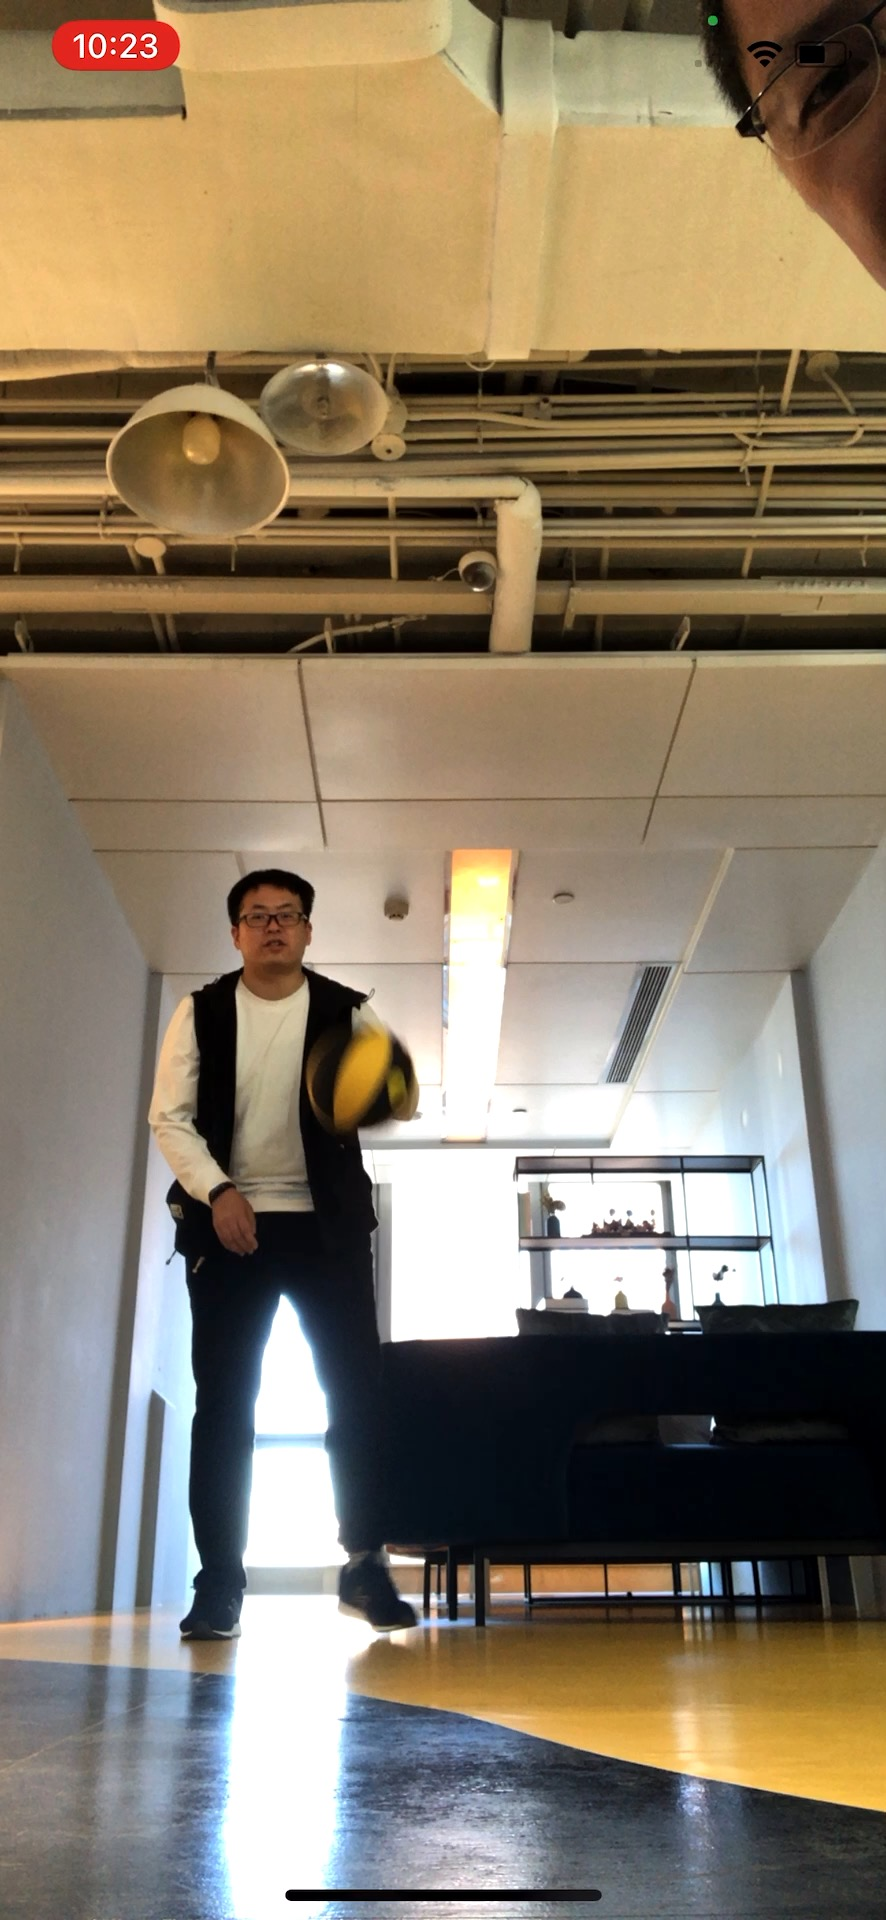ball: (306, 1022, 412, 1135)
